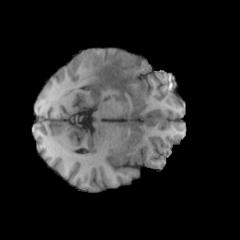glioma: (77, 51, 145, 93)
